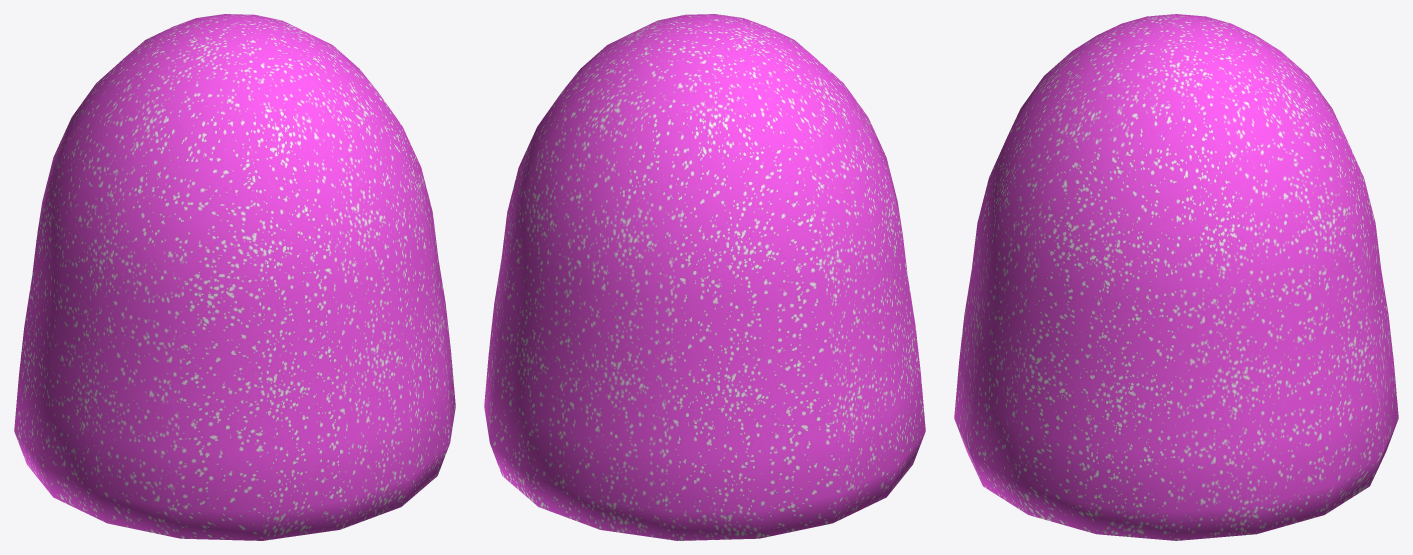
Rendered from Gumdrop.fbx.
3 renders of one model, left to right at view 1: azimuth 30°, elevation 25°; view 2: azimuth 150°, elevation 25°; view 3: azimuth 270°, elevation 25°, orthographic.
Visible parts, largest first — view 1: Gumdrop; view 2: Gumdrop; view 3: Gumdrop.
Part boxes in pixels (x1=…): Gumdrop: x1=14, y1=14, x2=455, y2=540; Gumdrop: x1=484, y1=14, x2=925, y2=540; Gumdrop: x1=954, y1=14, x2=1398, y2=540.
Size of the model in its own units: 219 by 246 by 219.
1 material, 1 textured.
